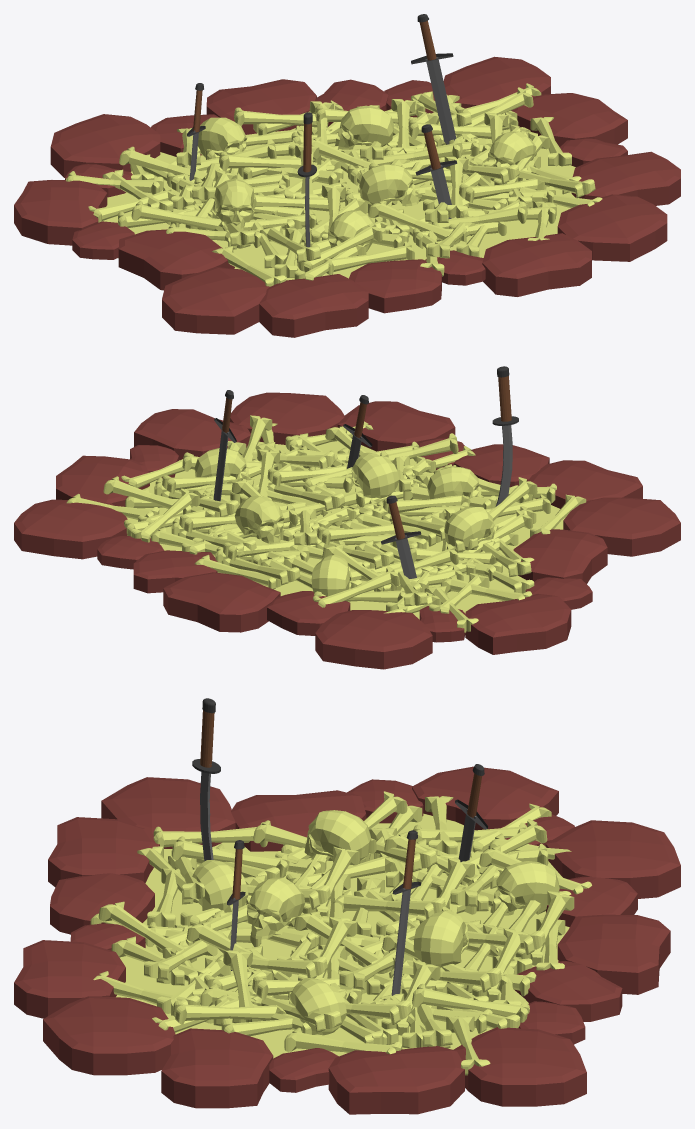
The model's file is BonePit1.fbx.
The picture shows the model from 3 angles, top to bottom: view 1: azimuth 30°, elevation 25°; view 2: azimuth 150°, elevation 25°; view 3: azimuth 270°, elevation 25°; orthographic projection. The views are drawn at different scales.
Visible parts, largest first — view 1: Cube.096; view 2: Cube.096; view 3: Cube.096.
Boxes of the visible parts, <box> form: Cube.096: <box>14,14,680,337</box>; Cube.096: <box>14,366,680,669</box>; Cube.096: <box>14,698,680,1114</box>.
Size of the model in its own units: 1442 by 396 by 1246.
